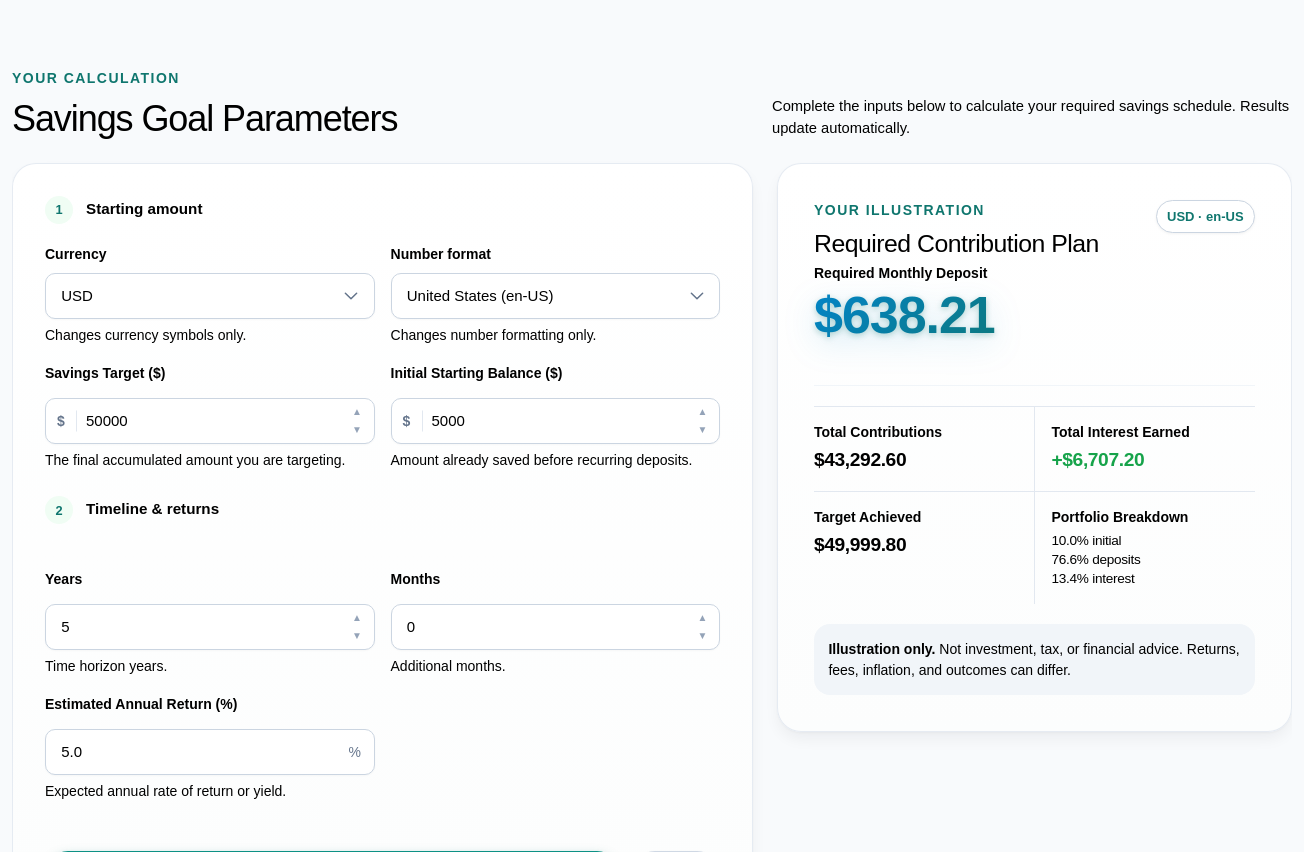
SavingsGoalWorkspace Component › shows validation error when entering an invalid target
Replace the text in the field labelled "Savings Target ($)" with "0" at (210, 421), box [45,398,374,444]
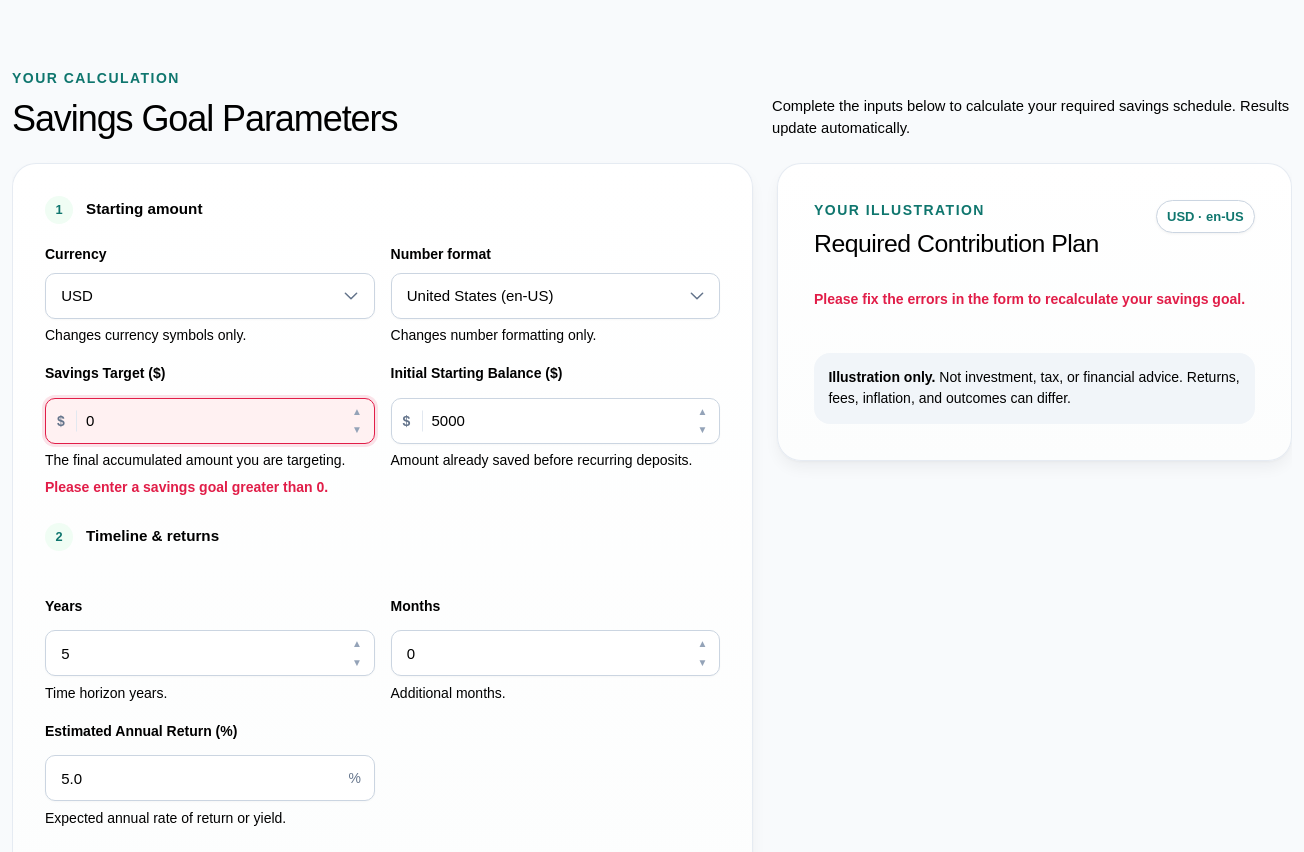
Expected: the text "Please enter a savings goal greater than 0." is shown, [45,477,374,497]
Expected: the text "Please fix the errors in the form to recalculate your savings goal." is shown, [814,289,1255,309]
